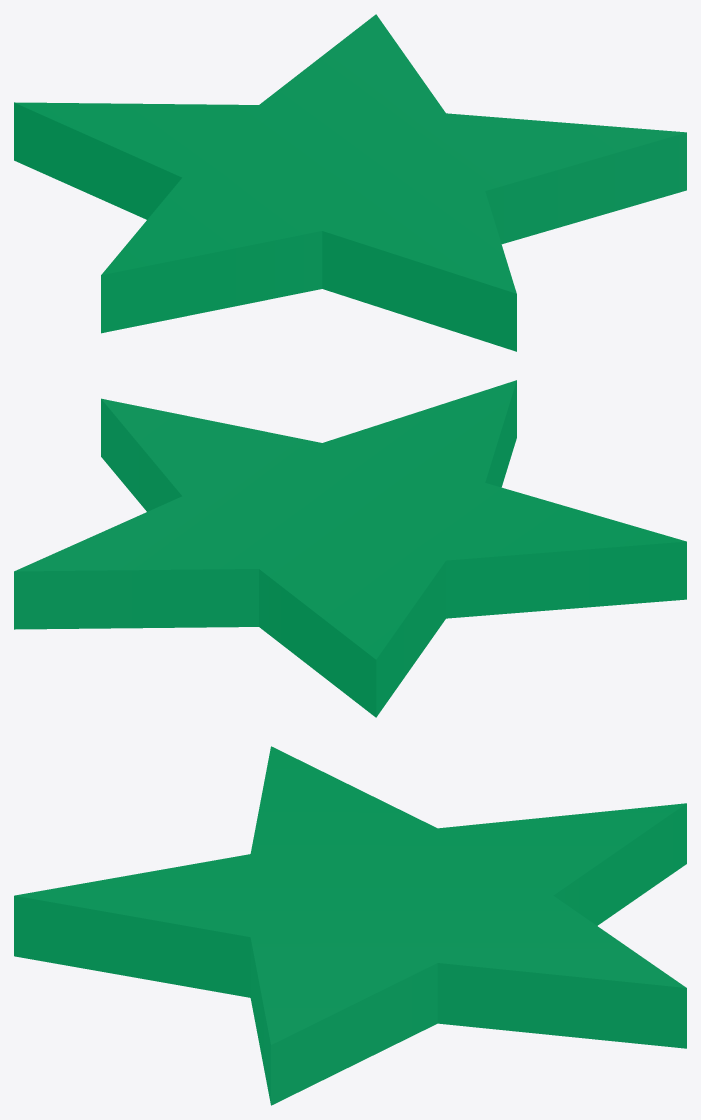
File: star_premium_animated.glb
3 renders of one model, top to bottom at view 1: azimuth 30°, elevation 25°; view 2: azimuth 150°, elevation 25°; view 3: azimuth 270°, elevation 25°, orthographic. The views are drawn at different scales.
Parts seen in each view (by area): view 1: star_icon; view 2: star_icon; view 3: star_icon.
Boxes of the visible parts, x1,y1,x2,y2 form: star_icon: (14, 14, 686, 351); star_icon: (14, 380, 686, 717); star_icon: (14, 746, 686, 1105).
Size of the model in its own units: 1.9 by 0.18 by 1.81.
